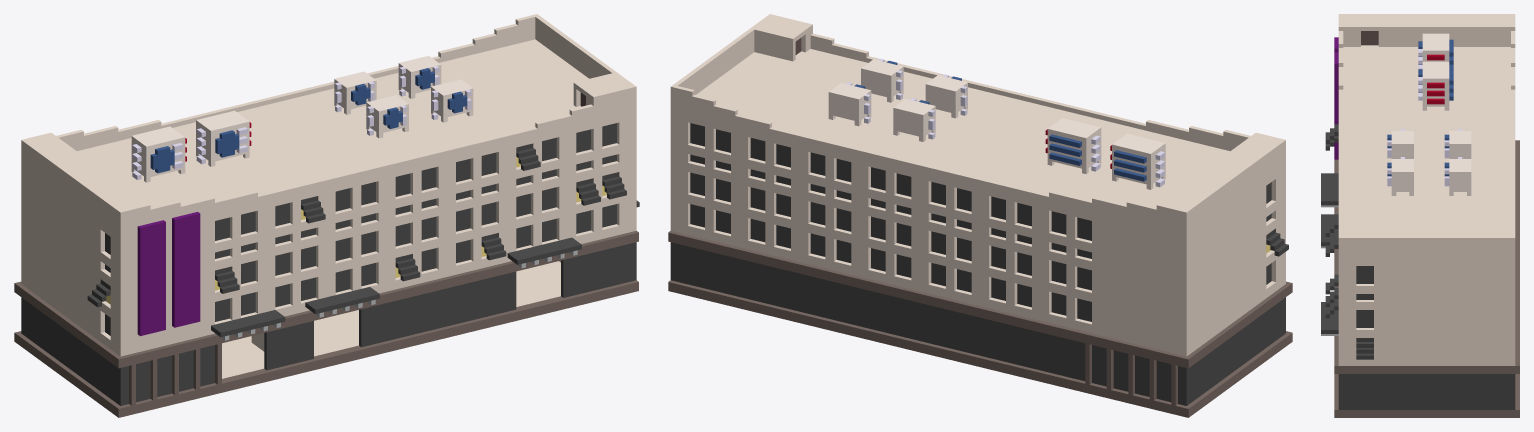
File: start-up-zone-le-tian.obj
The picture shows the model from 3 angles, left to right: view 1: azimuth 30°, elevation 25°; view 2: azimuth 150°, elevation 25°; view 3: azimuth 270°, elevation 25°; orthographic projection. The views are drawn at different scales.
Size of the model in its own units: 12.6 by 4.8 by 4.5.
1 material, 1 textured.
